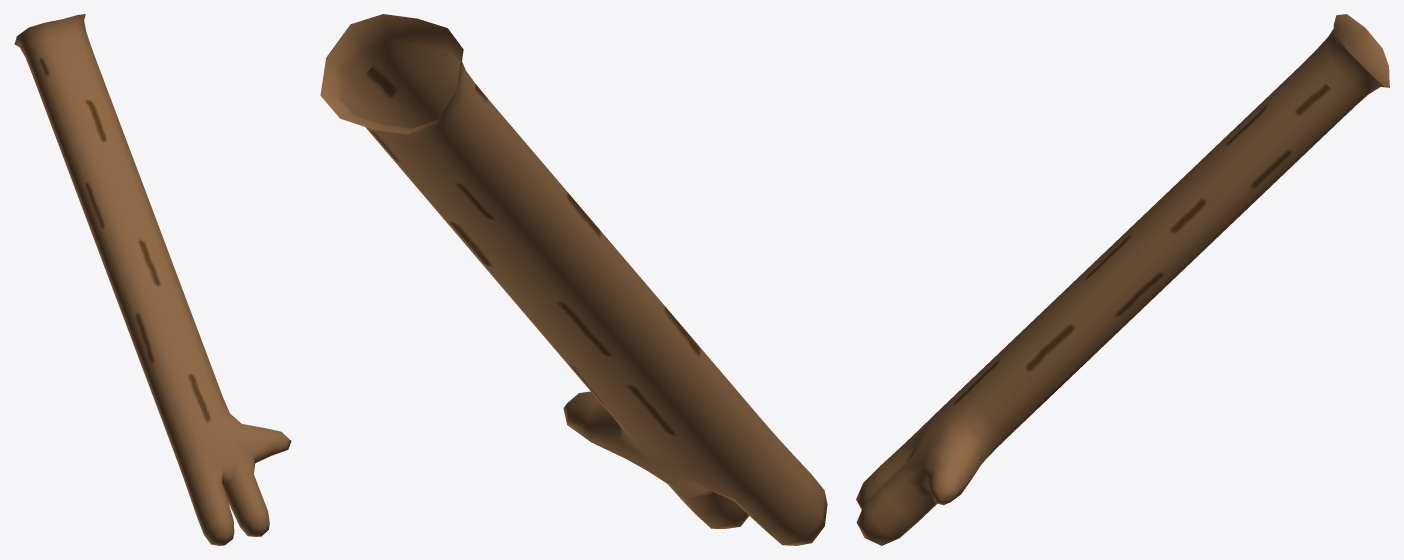
File: brazoderecho.obj
The picture shows the model from 3 angles, left to right: view 1: azimuth 30°, elevation 25°; view 2: azimuth 150°, elevation 25°; view 3: azimuth 270°, elevation 25°; orthographic projection. The views are drawn at different scales.
Parts seen in each view (by area): view 1: Cube.002_R'gby_=_Base; view 2: Cube.002_R'gby_=_Base; view 3: Cube.002_R'gby_=_Base.
Part boxes in pixels (x1,y1,x2,y2): Cube.002_R'gby_=_Base: [14, 14, 291, 545]; Cube.002_R'gby_=_Base: [320, 14, 827, 545]; Cube.002_R'gby_=_Base: [856, 14, 1389, 545].
Bounding box in the file's own units: 0.0974 × 0.332 × 0.3158.
